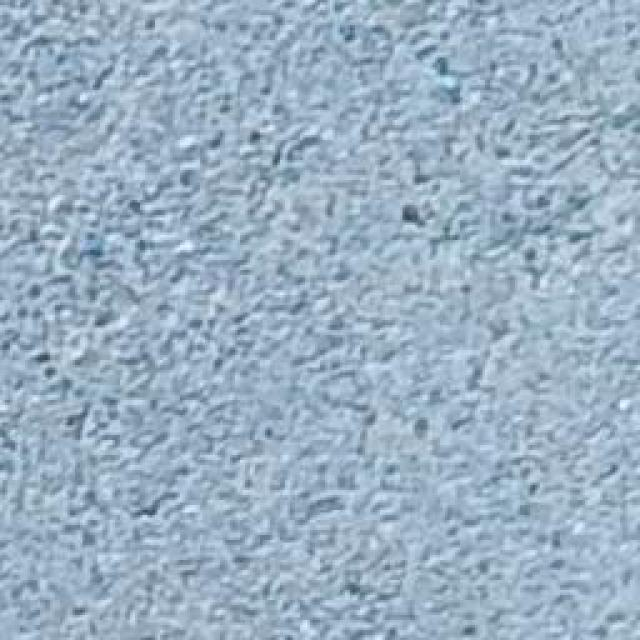concrete-crack: (0, 0, 572, 87)
